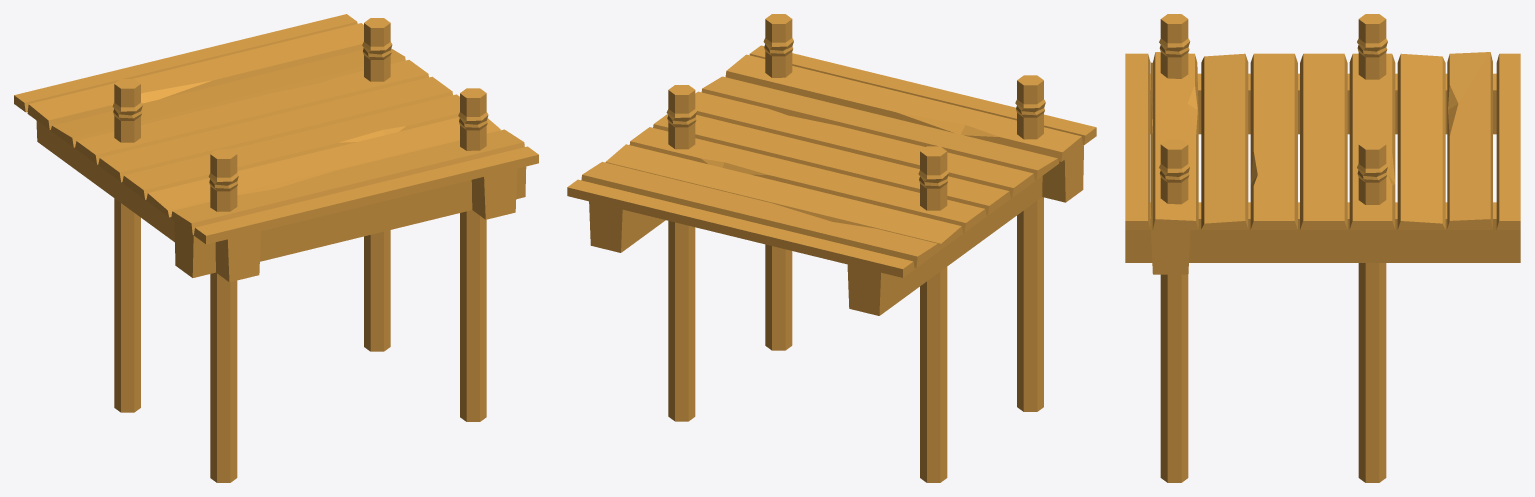
File: pier-tile-straight.fbx
The picture shows the model from 3 angles, left to right: view 1: azimuth 30°, elevation 25°; view 2: azimuth 150°, elevation 25°; view 3: azimuth 270°, elevation 25°; orthographic projection. The views are drawn at different scales.
Parts seen in each view (by area): view 1: pier-tile-straight; view 2: pier-tile-straight; view 3: pier-tile-straight.
Boxes of the visible parts, x1,y1,x2,y2 form: pier-tile-straight: (14, 14, 538, 482); pier-tile-straight: (567, 14, 1096, 482); pier-tile-straight: (1125, 14, 1520, 482).
Bounding box in the file's own units: 4 × 3.72 × 4.
